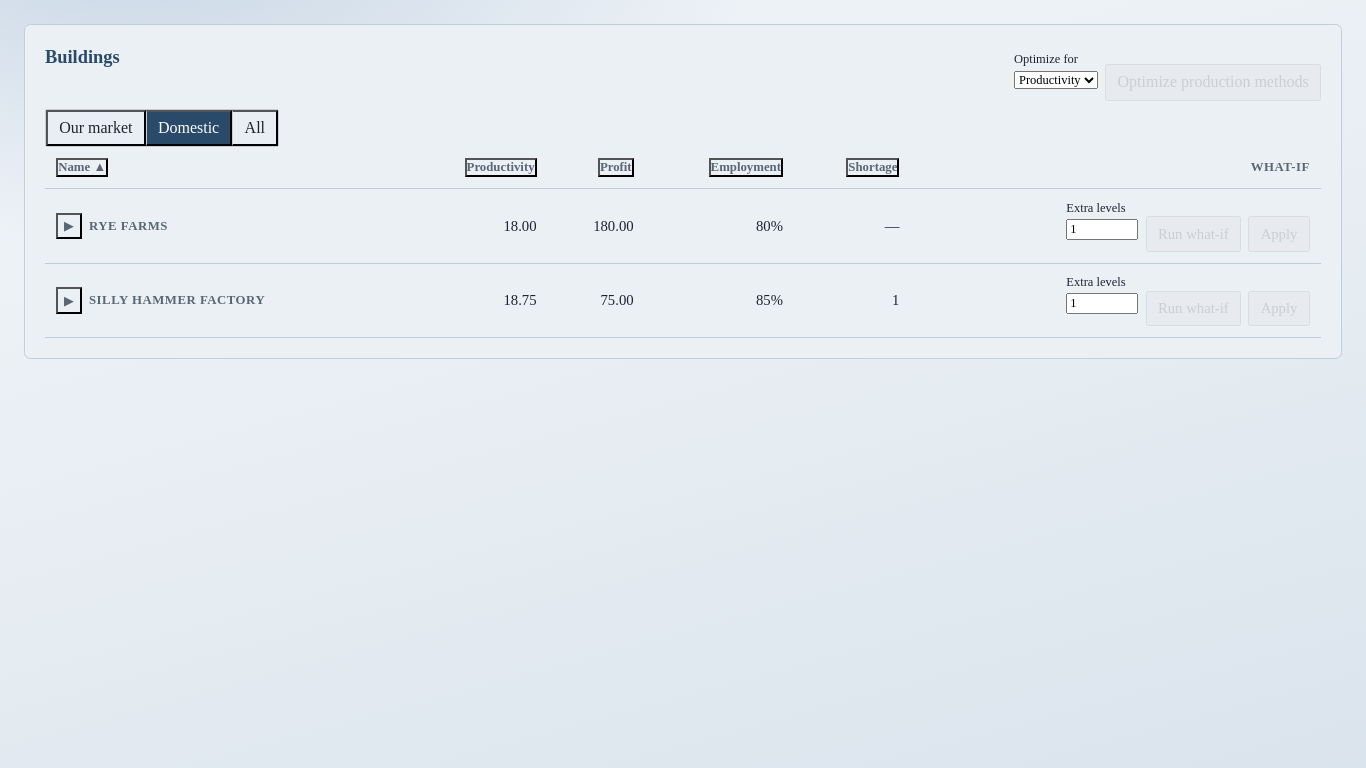
it: BuildingsPane › shows the player market and all countries from the scope filter
The width and height of the screenshot is (1366, 768).
Click the button "Our market".
click(96, 128)  # box [46,110,146,146]
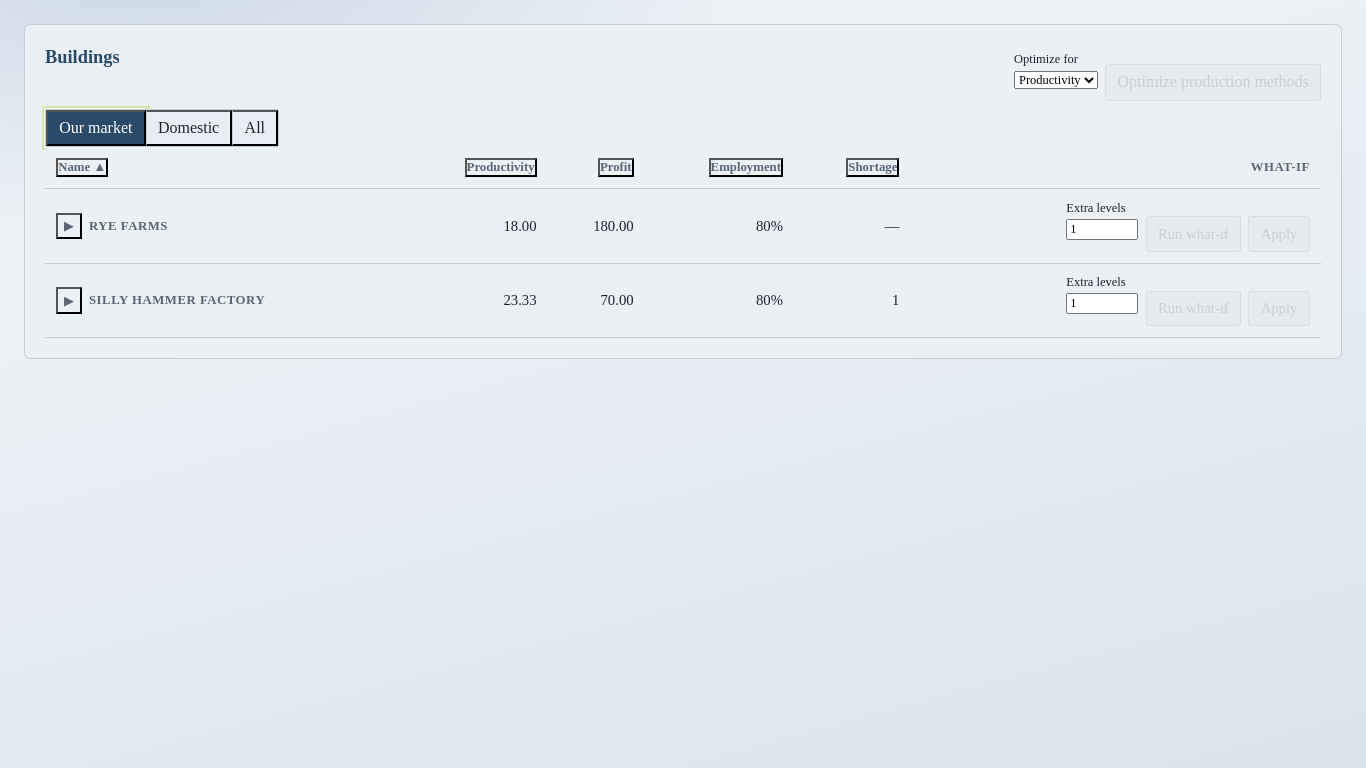
Expected: the text "Rye Farms" is shown, [89,219,168,233]
Expected: the text "Silly Hammer Factory" is shown, [89,293,265,307]
Click the button named "Expand Silly Hammer Factory".
click(69, 301)  # box [56,288,82,314]
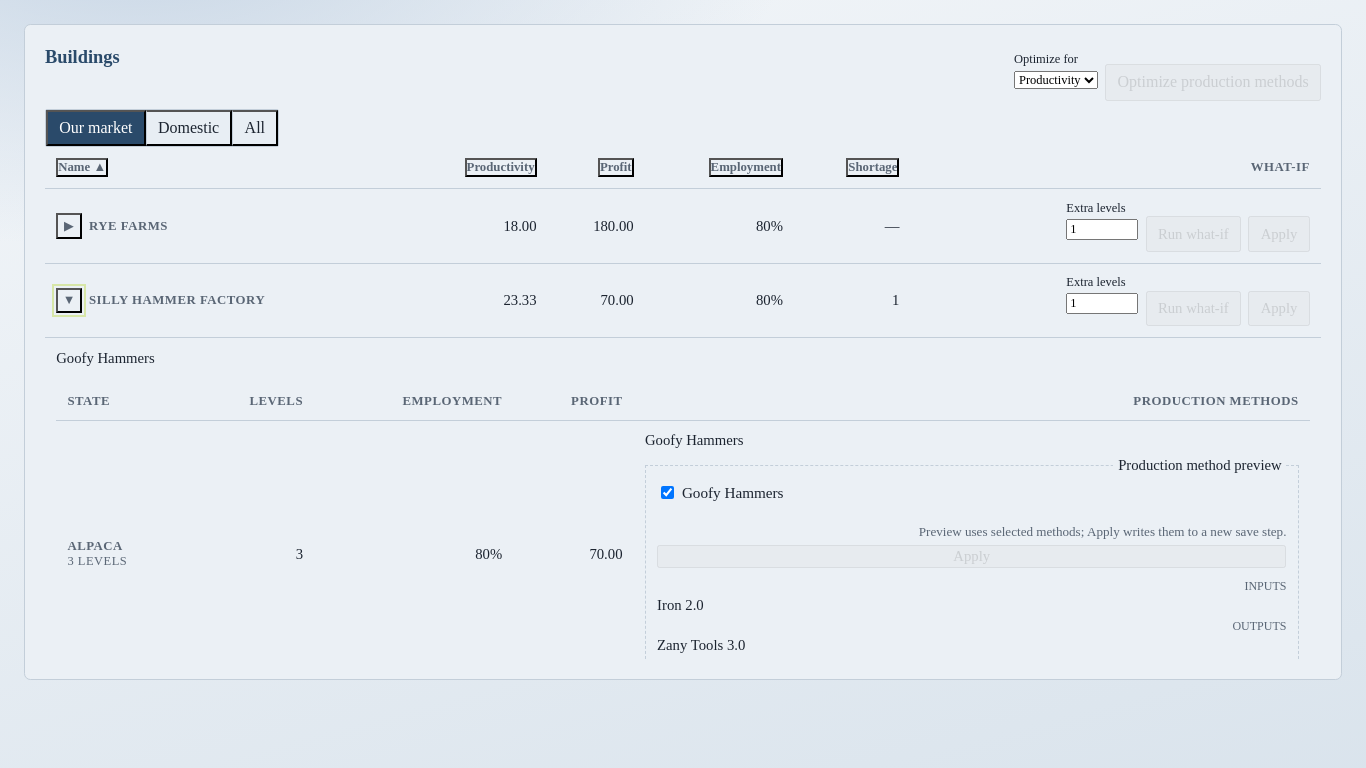
Expected: the link "Alpaca" is shown, [67,539,123,554]
Click the button "All".
click(255, 128)  # box [232,110,278,146]
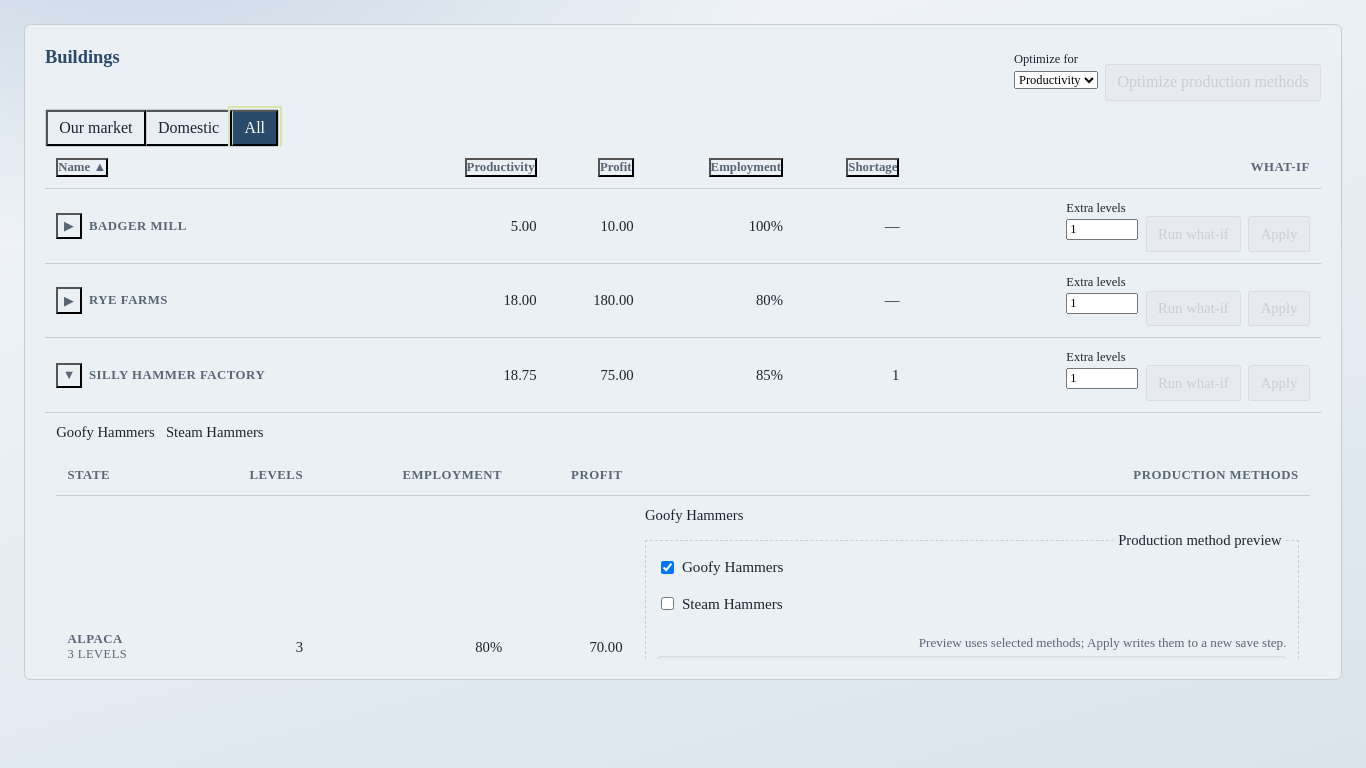
Expected: the text "Badger Mill" is shown, [89,219,187,233]
